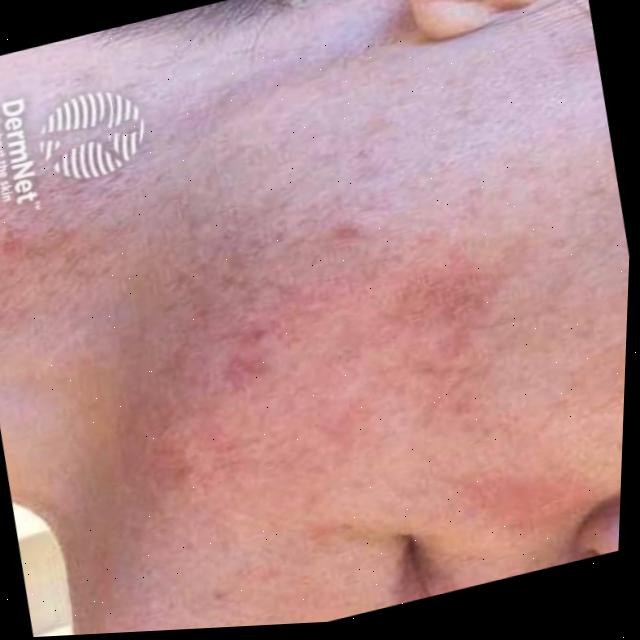Eczema: (196, 123, 537, 487)
